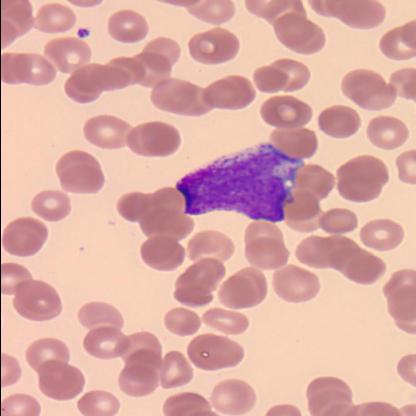Promyelocyte: (174, 144, 304, 224)
